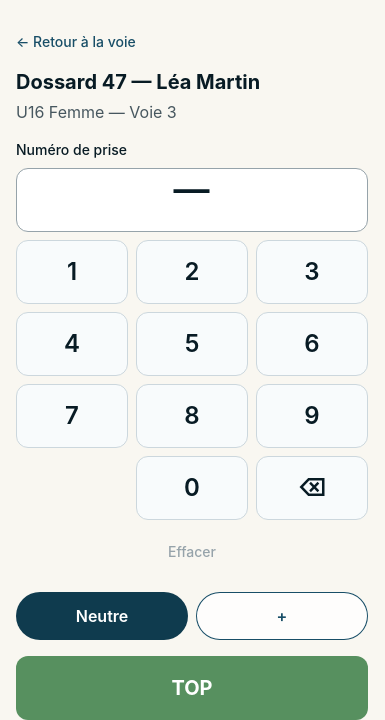
JudgeAscentEntry › un TOP vide le numéro de prise et l’affiche dans le récapitulatif
Step 1. Click the button "TOP" → (192, 688), box [16, 656, 368, 719]
(page scrolled)
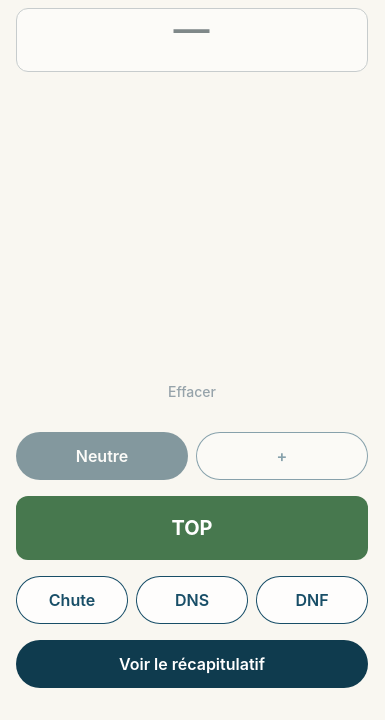
Step 2. Click the button "Voir le récapitulatif" → (192, 664), box [16, 640, 368, 688]
(page scrolled)
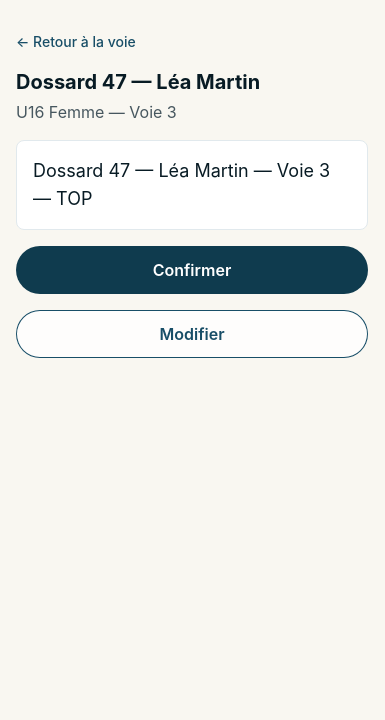
Check: the text "Dossard 47 — Léa Martin — Voie 3 — TOP" is shown, box [16, 140, 368, 230]
